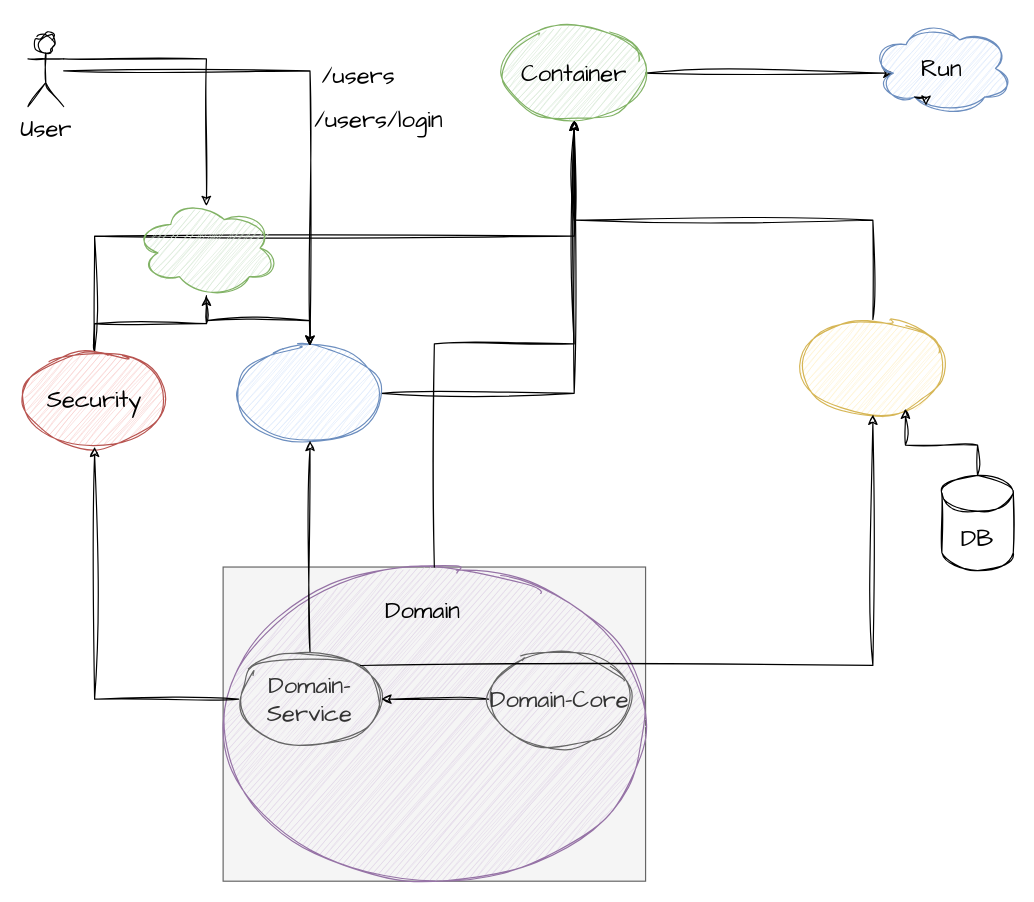
This 1034x902 diagram has some shape labels left out. Each missing label, with the centre of its shape:
"Application" belongs at (x=309, y=393).
"DataAccess" belongs at (x=872, y=366).
"Token" belongs at (x=206, y=247).
